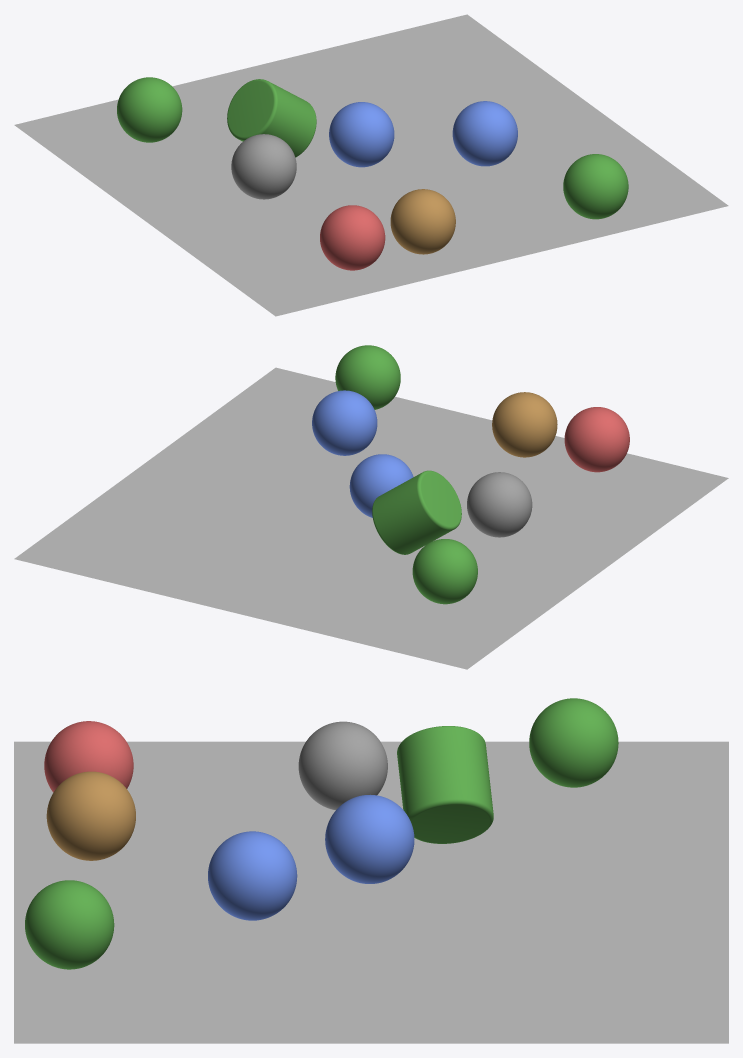
The picture shows the model from 3 angles, top to bottom: view 1: azimuth 30°, elevation 25°; view 2: azimuth 150°, elevation 25°; view 3: azimuth 270°, elevation 25°; orthographic projection. The views are drawn at different scales.
Visible parts, largest first — view 1: Cube, FileBasedObject.003, FileBasedObject.001, FileBasedObject.004, FileBasedObject.005, FileBasedObject, FileBasedObject.006, FileBasedObject.007, FileBasedObject.002; view 2: Cube, FileBasedObject.003, FileBasedObject.004, FileBasedObject.007, FileBasedObject.006, FileBasedObject.001, FileBasedObject.002, FileBasedObject.005, FileBasedObject; view 3: Cube, FileBasedObject.003, FileBasedObject.002, FileBasedObject.005, FileBasedObject, FileBasedObject.007, FileBasedObject.001, FileBasedObject.004, FileBasedObject.006.
Boxes of the visible parts, <box> form: Cube: <box>14,14,728,316</box>; FileBasedObject.003: <box>227,79,316,157</box>; FileBasedObject.001: <box>452,101,517,166</box>; FileBasedObject.004: <box>231,134,296,199</box>; FileBasedObject.005: <box>563,154,628,219</box>; FileBasedObject: <box>329,102,394,167</box>; FileBasedObject.006: <box>320,205,385,270</box>; FileBasedObject.007: <box>390,189,455,254</box>; FileBasedObject.002: <box>117,77,182,142</box>; Cube: <box>14,367,728,669</box>; FileBasedObject.003: <box>372,470,461,554</box>; FileBasedObject.004: <box>467,472,532,537</box>; FileBasedObject.007: <box>492,392,557,457</box>; FileBasedObject.006: <box>564,407,629,472</box>; FileBasedObject.001: <box>312,390,377,455</box>; FileBasedObject.002: <box>412,539,477,604</box>; FileBasedObject.005: <box>335,345,400,409</box>; FileBasedObject: <box>349,454,413,517</box>; Cube: <box>14,741,728,1043</box>; FileBasedObject.003: <box>397,726,493,843</box>; FileBasedObject.002: <box>529,698,618,787</box>; FileBasedObject.005: <box>25,880,114,969</box>; FileBasedObject: <box>325,794,414,883</box>; FileBasedObject.007: <box>46,771,135,860</box>; FileBasedObject.001: <box>208,831,297,920</box>; FileBasedObject.004: <box>298,721,387,810</box>; FileBasedObject.006: <box>44,721,133,792</box>.
Bounding box in the file's own units: 8 × 1.41 × 8.
